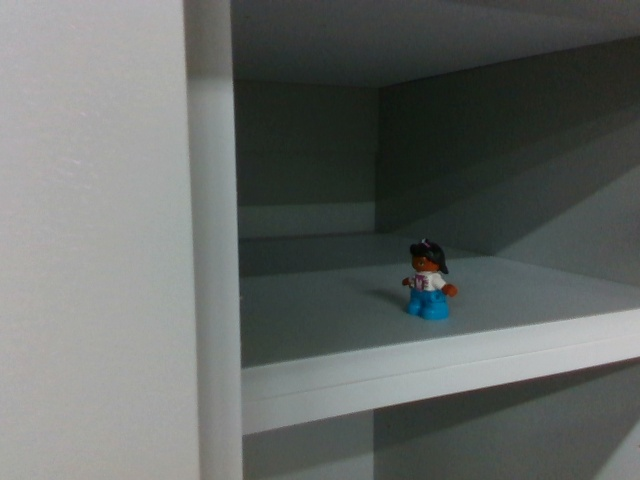people: (398, 236, 459, 326)
